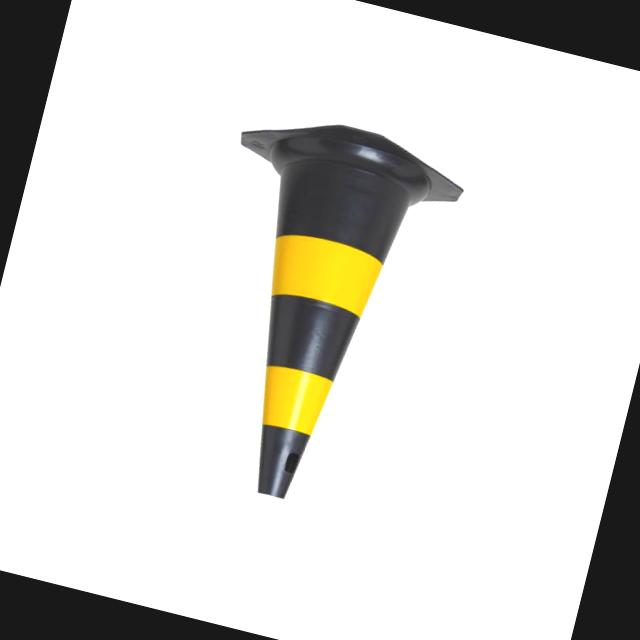cone: (152, 97, 478, 524)
